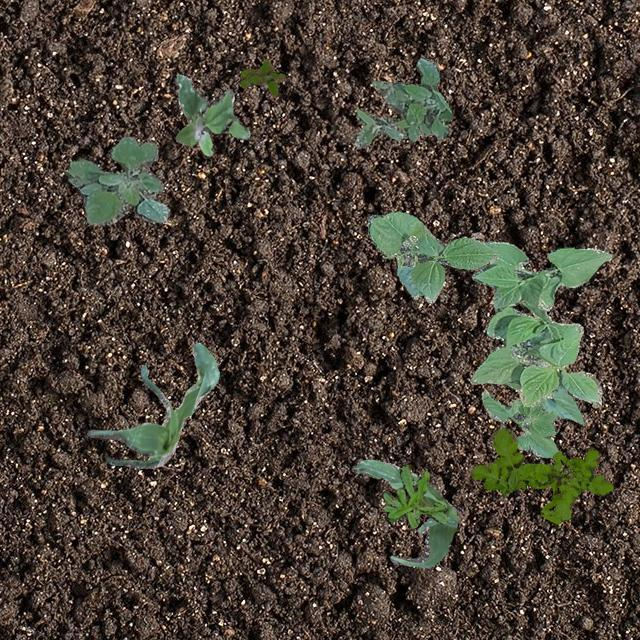crop: (470, 240, 610, 407), (85, 342, 218, 466), (366, 210, 498, 302), (350, 458, 458, 566), (480, 381, 584, 456)
weed: (469, 427, 612, 522), (352, 57, 452, 146), (68, 136, 168, 224), (174, 72, 250, 154), (382, 464, 446, 526), (238, 60, 284, 96)
